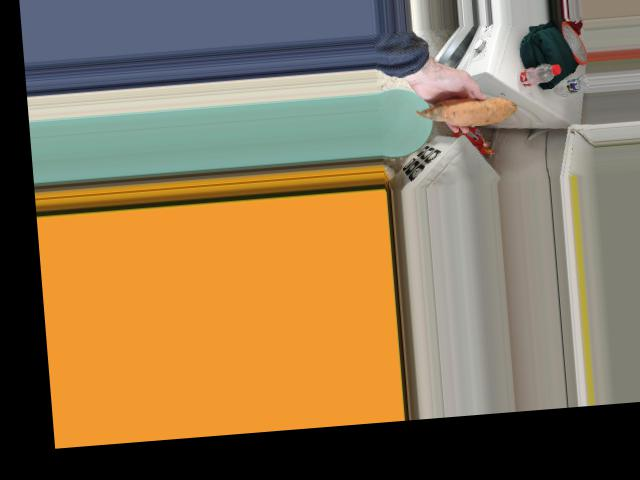sweet_potato: (435, 88, 505, 124)
